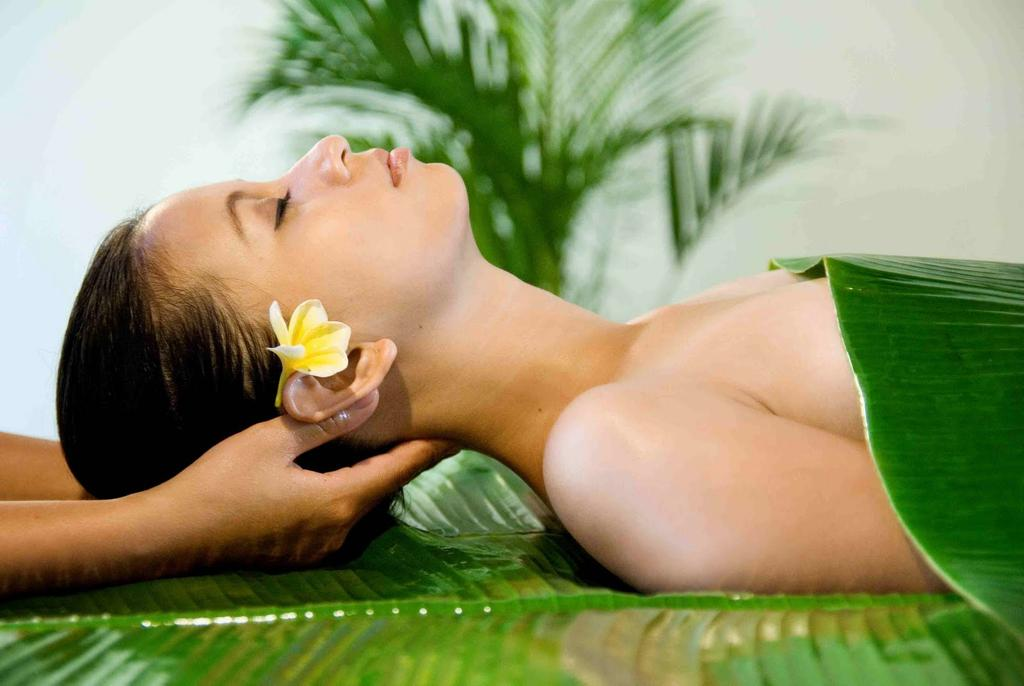face: (156, 130, 468, 306)
